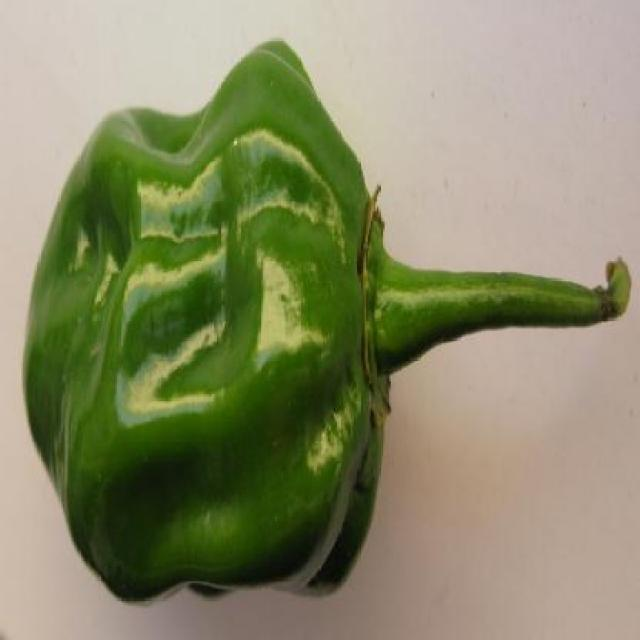Bell pepper: (22, 31, 630, 609)
